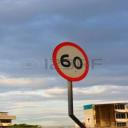speed_limit_60: (52, 42, 90, 82)
